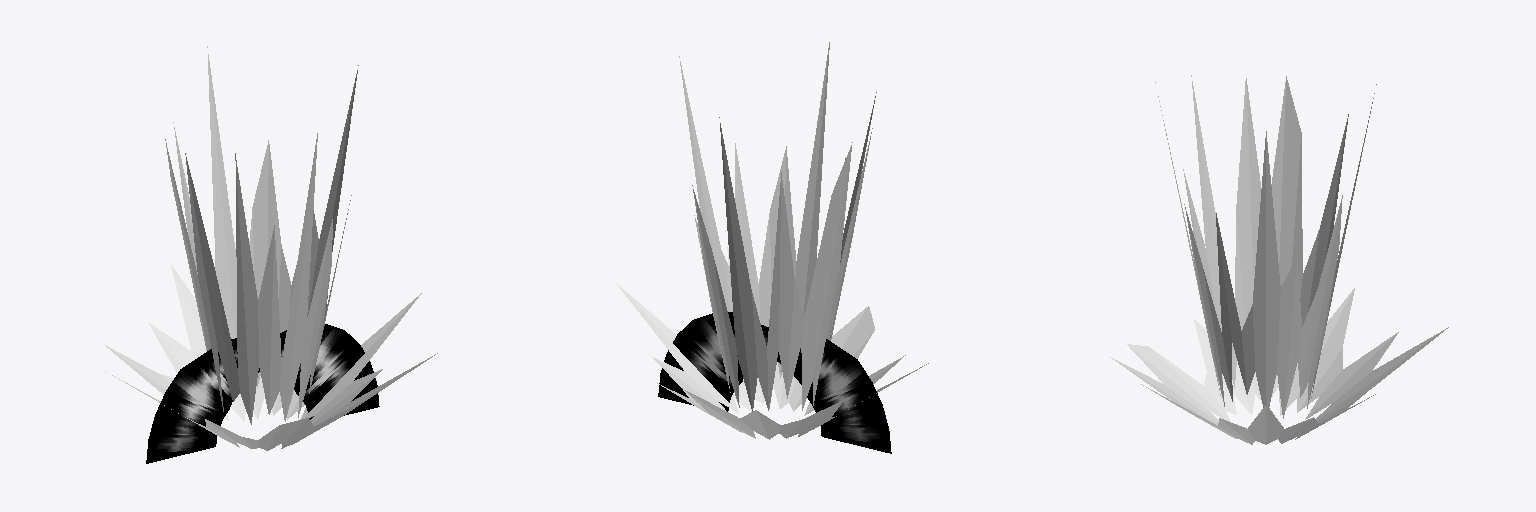
3 renders of one model, left to right at view 1: azimuth 30°, elevation 25°; view 2: azimuth 150°, elevation 25°; view 3: azimuth 270°, elevation 25°, orthographic.
Visible parts, largest first — view 1: polygon1, polygon2, polygon0; view 2: polygon1, polygon2, polygon0; view 3: polygon1, polygon0.
Boxes of the visible parts, box(x1,y1,x2,y2) form: polygon1: box(165, 46, 358, 424); polygon2: box(146, 324, 379, 463); polygon0: box(105, 265, 437, 450); polygon1: box(679, 42, 876, 411); polygon2: box(658, 312, 891, 453); polygon0: box(615, 246, 928, 439); polygon1: box(1155, 75, 1376, 418); polygon0: box(1110, 288, 1448, 444).
Size of the model in its own units: 24 by 25 by 22.21.
2 materials, 1 textured.